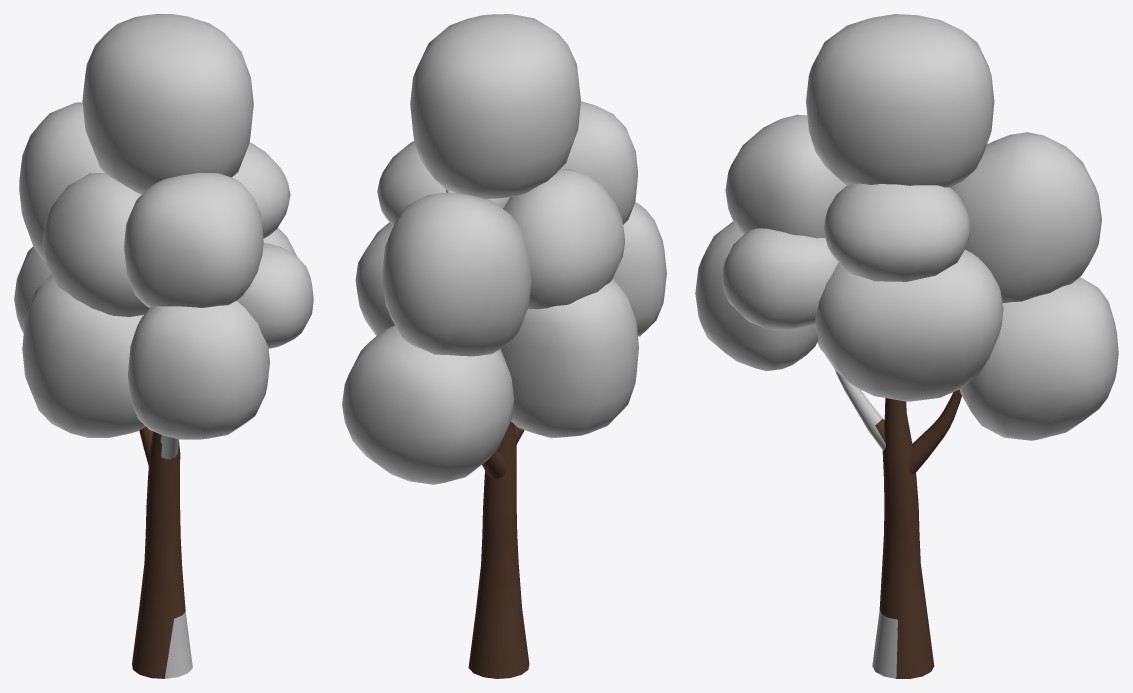
The model's file is tree_trunk_axis_textures.obj.
The picture shows the model from 3 angles, left to right: view 1: azimuth 30°, elevation 25°; view 2: azimuth 150°, elevation 25°; view 3: azimuth 270°, elevation 25°; orthographic projection.
Parts seen in each view (by area): view 1: Tree1_1; view 2: Tree1_1; view 3: Tree1_1.
Part boxes in pixels (x1,y1,x2,y2): Tree1_1: (14,14,313,678); Tree1_1: (342,14,666,678); Tree1_1: (695,14,1118,678).
Bounding box in the file's own units: 11.97 × 29.12 × 17.37.
